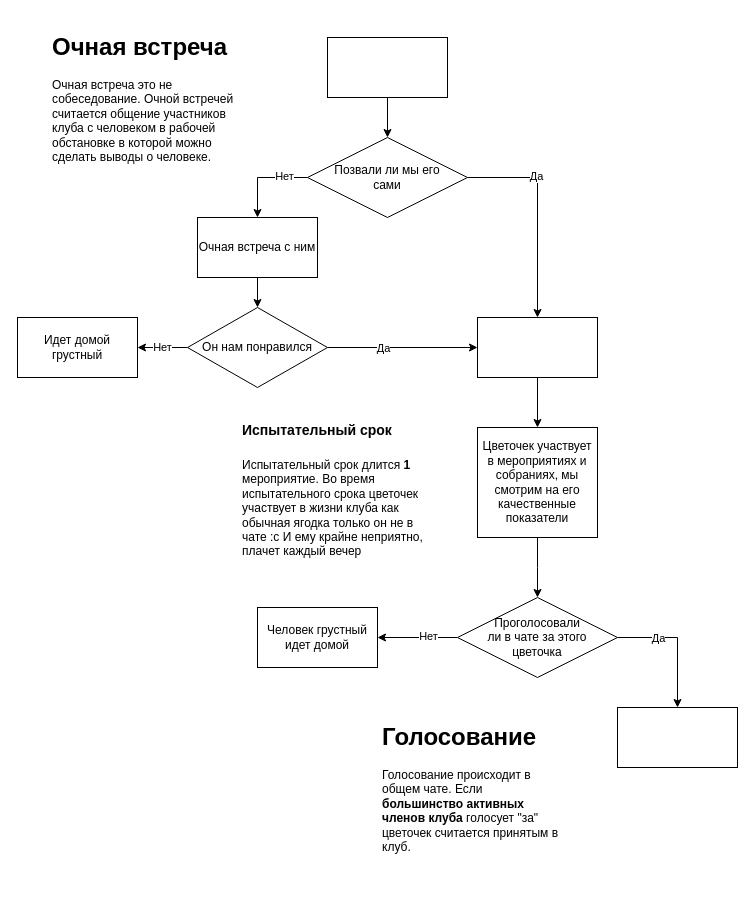
Image size: 755x914. Some labels were removed from this diagram. The centre of each missing label's shape, as x and y in pixels:
Цветочек трансформируется в ягодку и его добавляют в чат: point (677, 737)
Человек становится цветочком на время испытательного срока: point (537, 347)
Человек хочет быть ягодкой и мы об этом знаем: point (387, 67)
